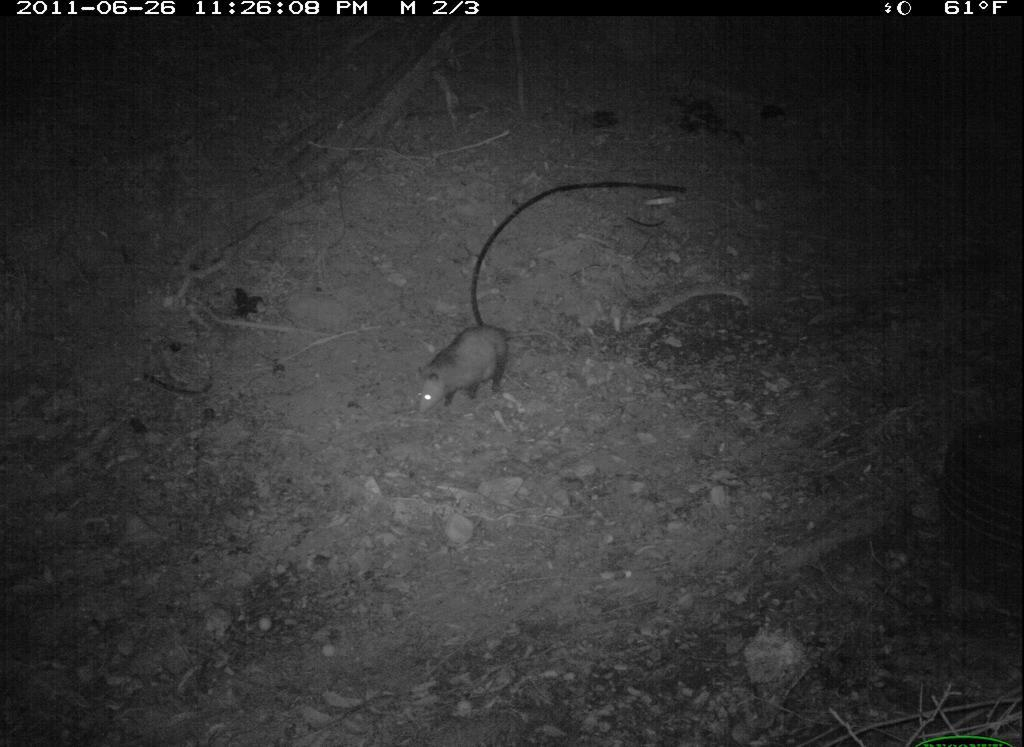opossum: (397, 314, 564, 420)
